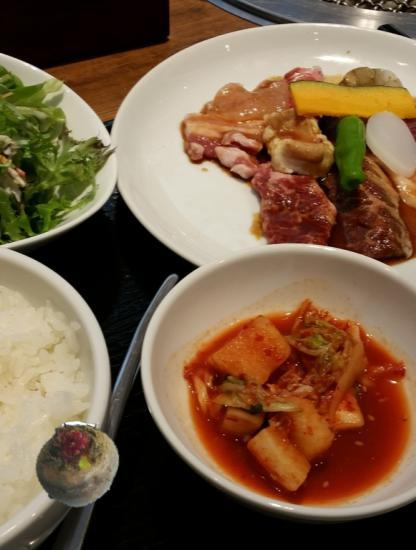Beetroot: (33, 421, 123, 511)
